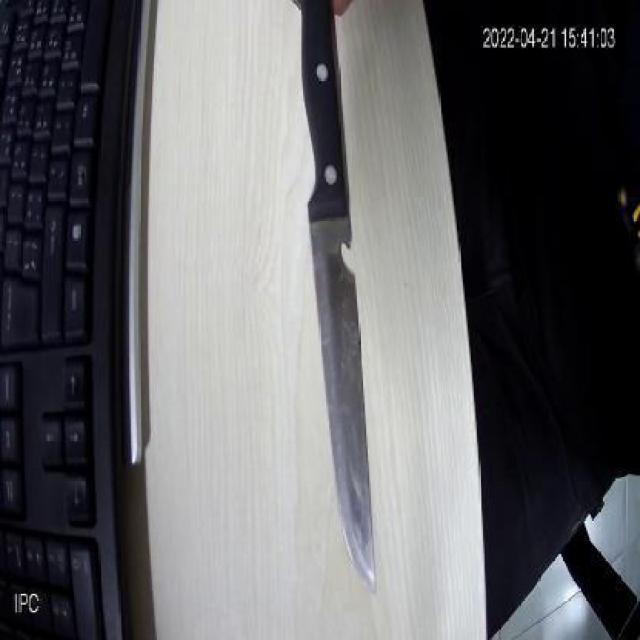knife: (254, 28, 409, 603)
